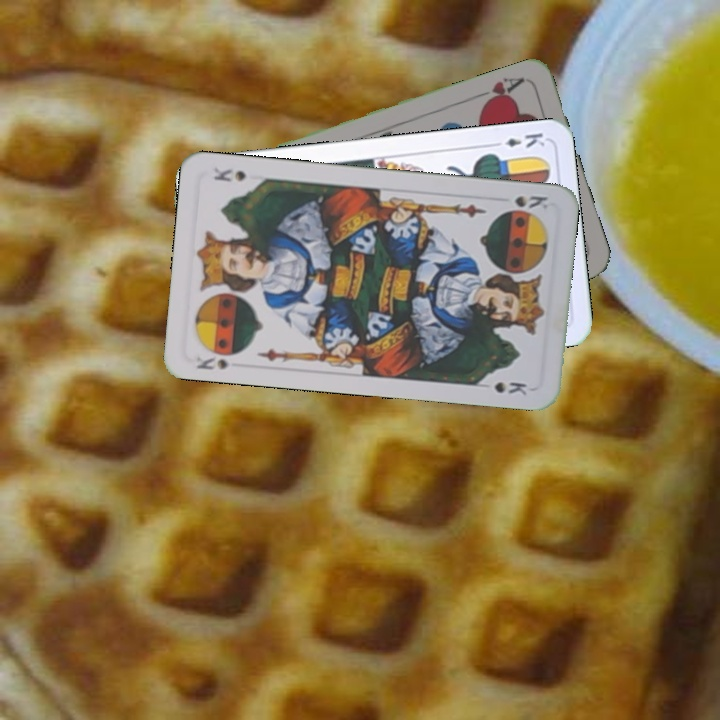EK: (488, 128, 547, 150)
HA: (470, 73, 527, 109)
SK: (511, 191, 550, 212), (192, 353, 231, 372)
